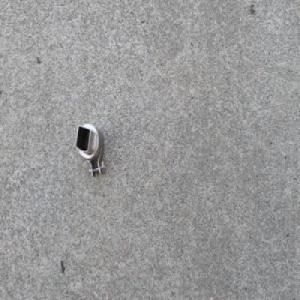MetalPart: (74, 120, 107, 178)
